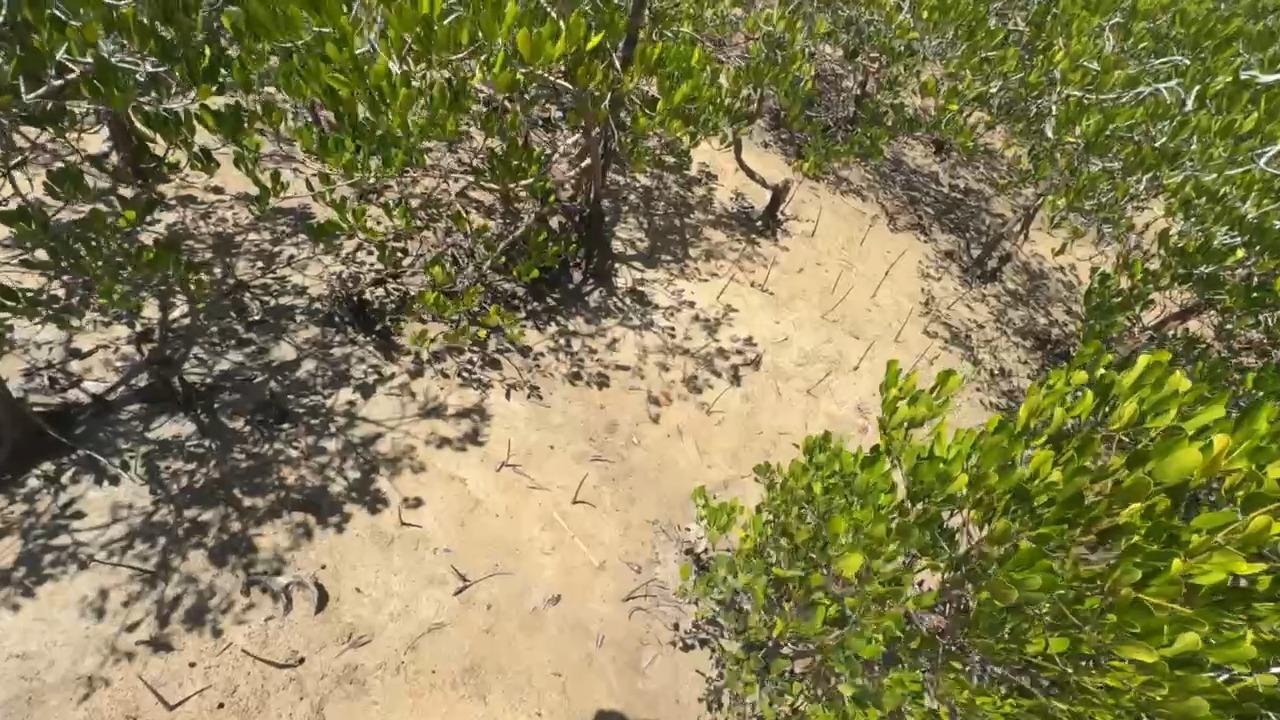Tree: (869, 248, 910, 298), (133, 675, 175, 710), (819, 284, 856, 320), (620, 575, 661, 602), (704, 381, 738, 413), (240, 648, 283, 673), (851, 339, 876, 372), (909, 340, 935, 370), (893, 305, 914, 341), (804, 370, 835, 393), (570, 471, 588, 507), (760, 254, 776, 290), (715, 272, 735, 300), (947, 286, 968, 307), (811, 202, 822, 238), (829, 269, 844, 295), (396, 503, 408, 528), (860, 223, 873, 245), (506, 439, 514, 468)
